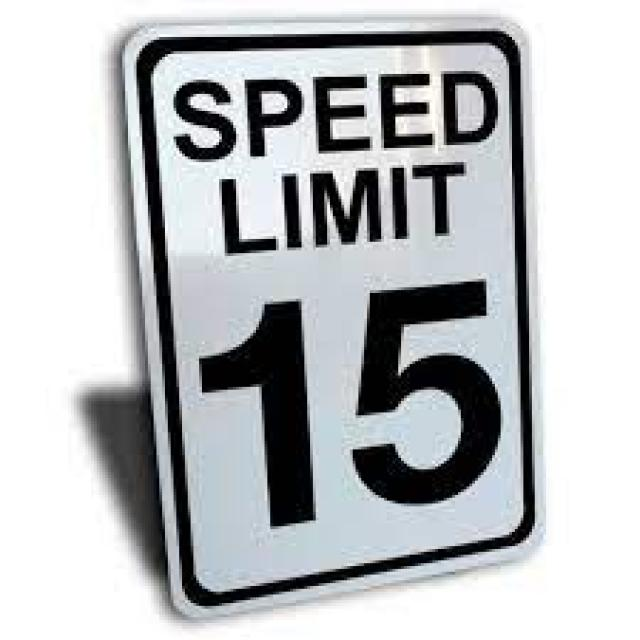speedLimit15: (132, 44, 539, 593)
